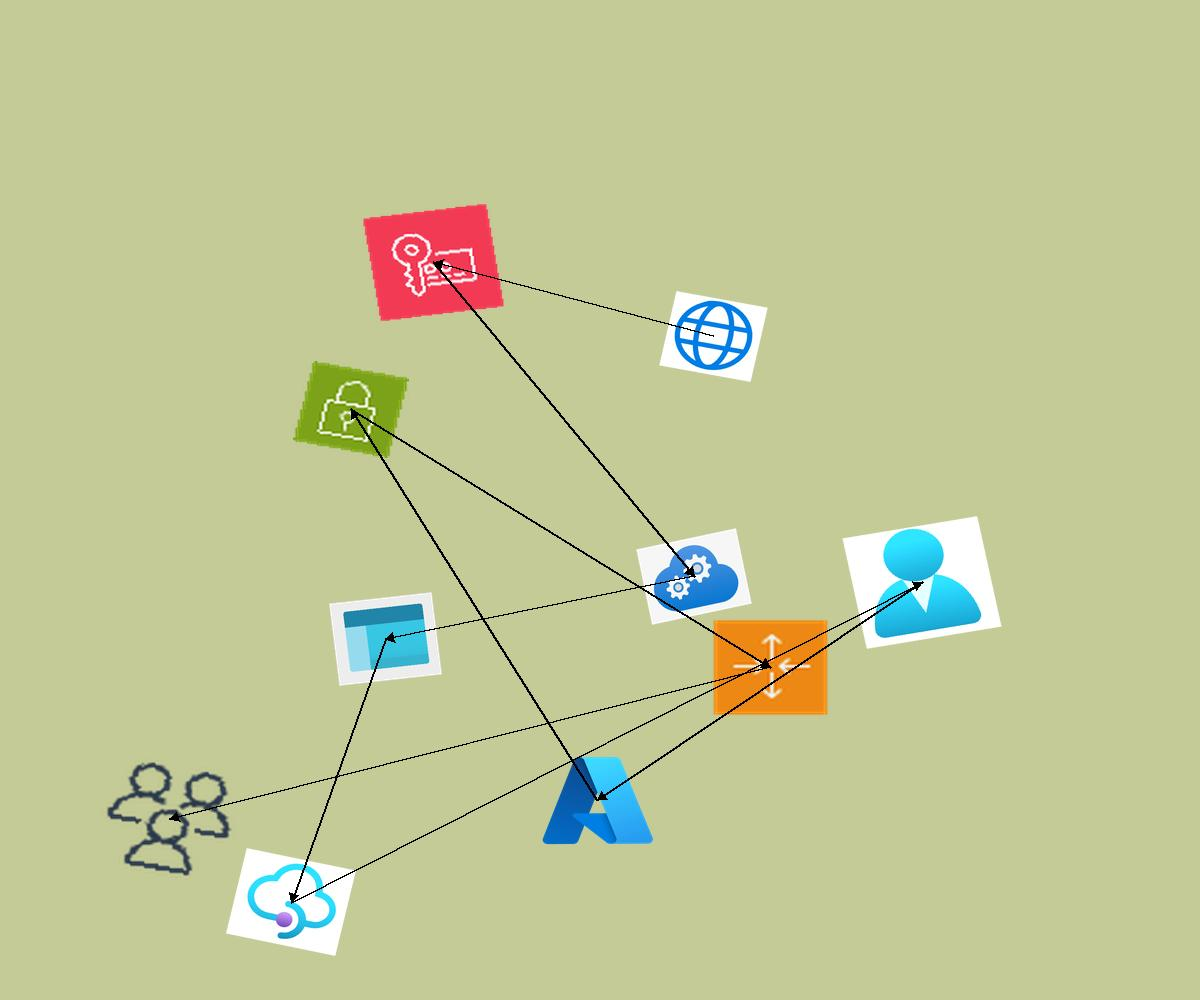AWS-Key-Management-Service: (362, 203, 505, 322)
AWS-Public-subnet: (293, 361, 409, 458)
AWS-Res_Users: (88, 751, 251, 887)
AWS-Scaling-group: (711, 618, 830, 717)
Azure_api_gateway: (226, 848, 356, 956)
Azure_cloud_services: (636, 528, 752, 625)
Azure_http: (659, 291, 768, 382)
Azure_management-portal: (329, 592, 442, 686)
Azure_services: (537, 750, 658, 851)
Azure_users: (842, 516, 1002, 649)
